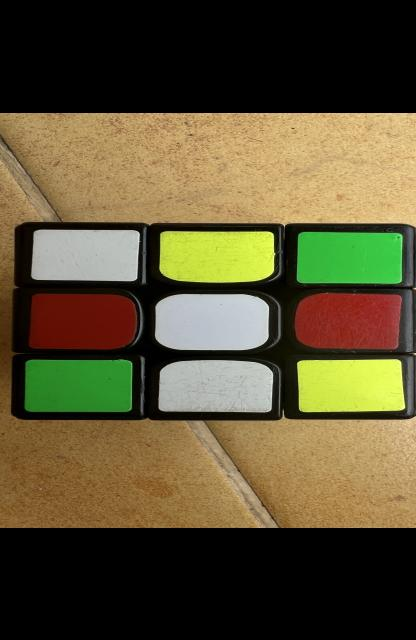Green: (25, 358, 133, 411), (296, 231, 403, 283)
Red: (28, 292, 136, 348), (295, 292, 401, 348)
White: (155, 293, 270, 349), (158, 359, 273, 412), (31, 228, 140, 280)
Yellow: (160, 230, 275, 282), (296, 358, 405, 411)
